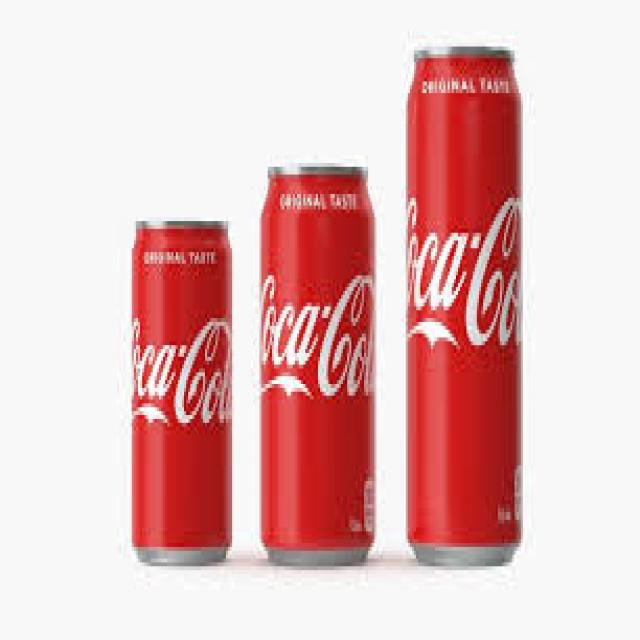Coca-Cola: (403, 22, 527, 577), (253, 153, 381, 582), (124, 202, 238, 577)
